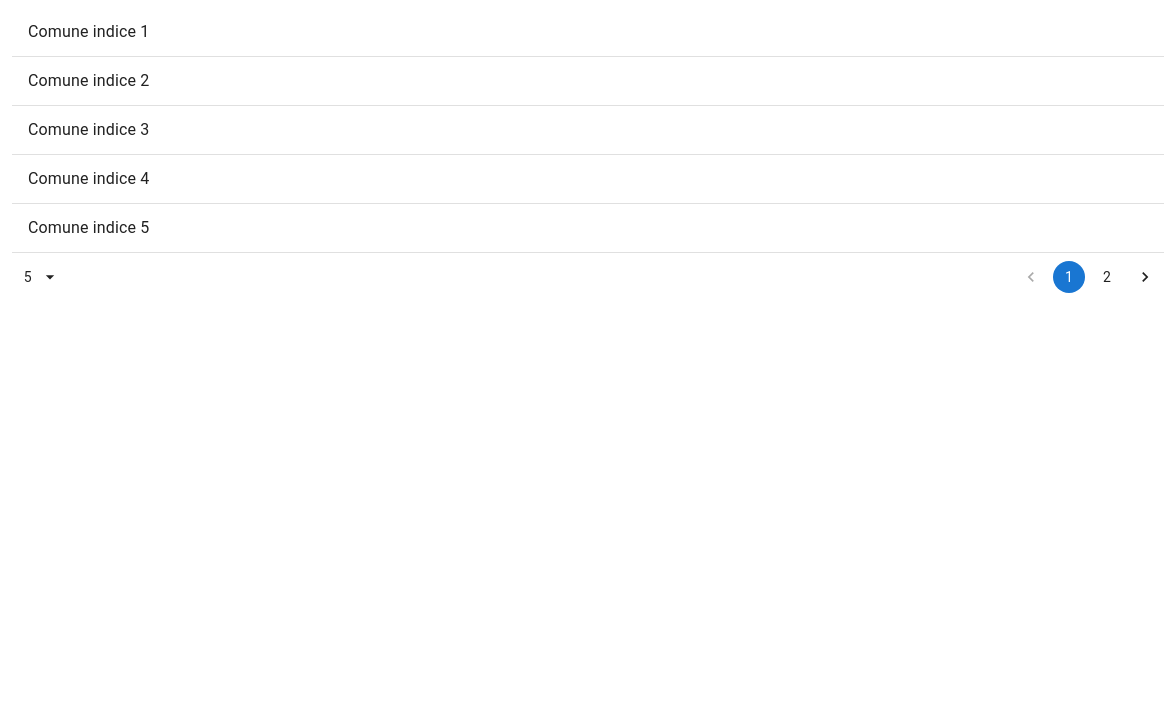
Scenario: PaginatedPaList tests › change items per page
Click the button "5".
click(44, 277)  # box left=12, top=265, right=76, bottom=289
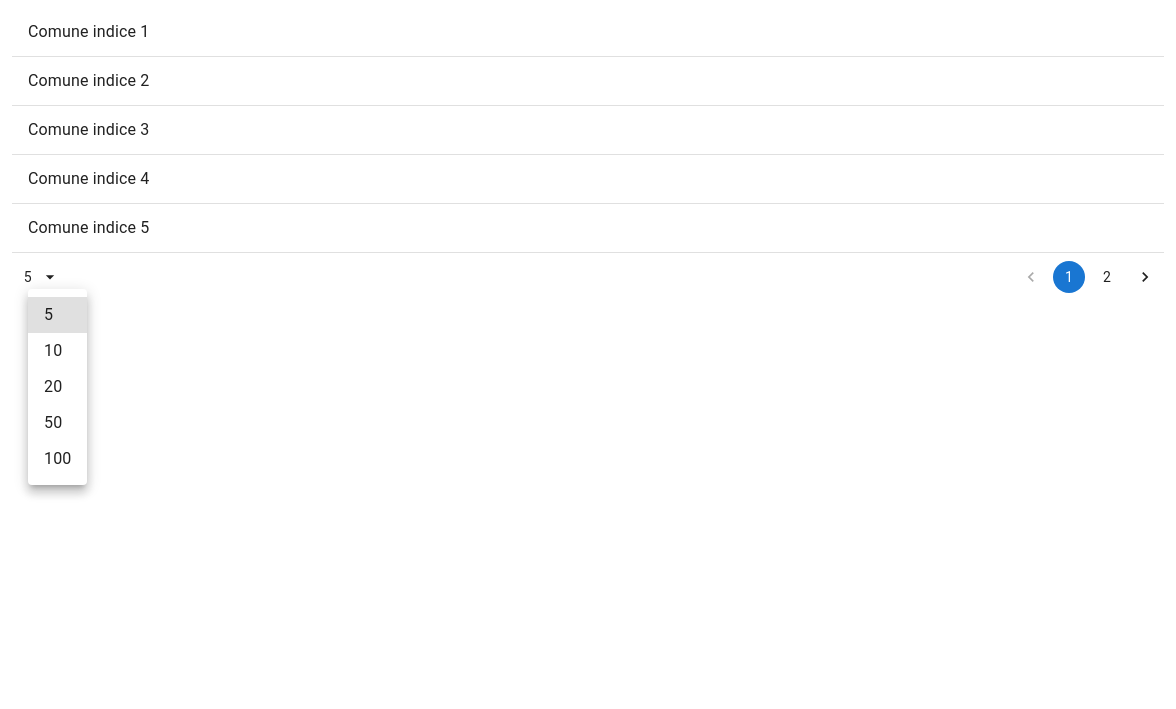
Check: the element showing "5 10 20 50 100" is shown, box left=28, top=289, right=87, bottom=485
Click the menu item "100".
click(58, 458)  # box left=44, top=449, right=71, bottom=468
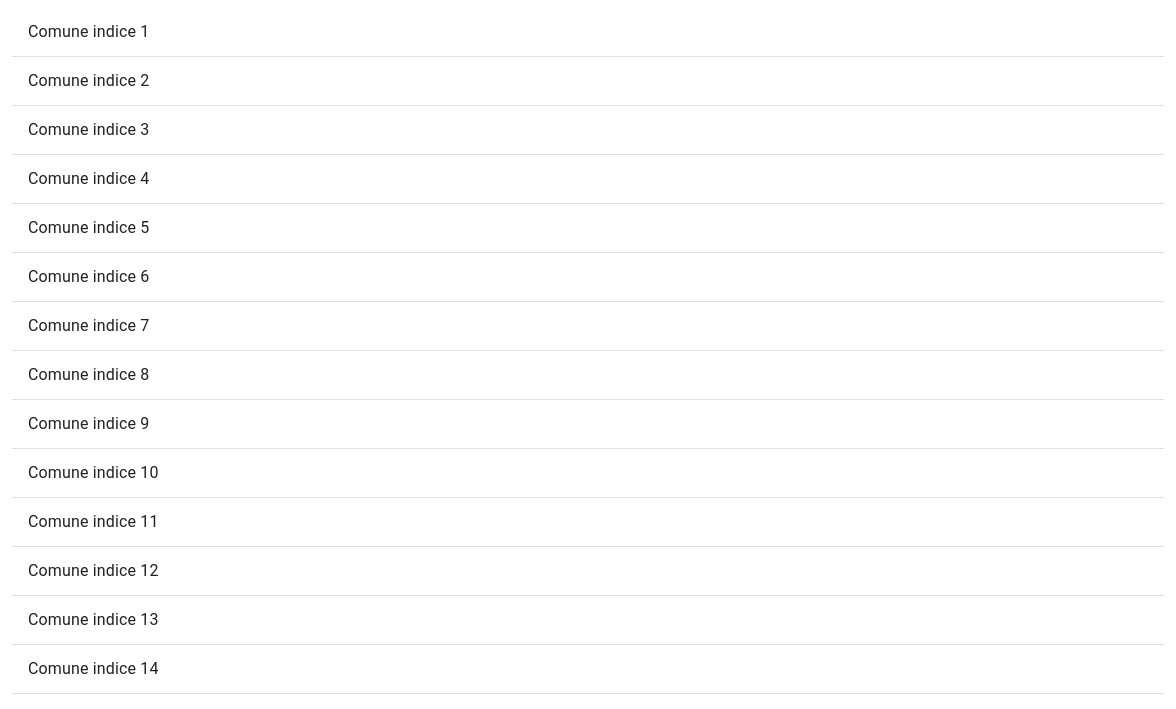
Check: the number of list items with test id "paList-item" is 15
